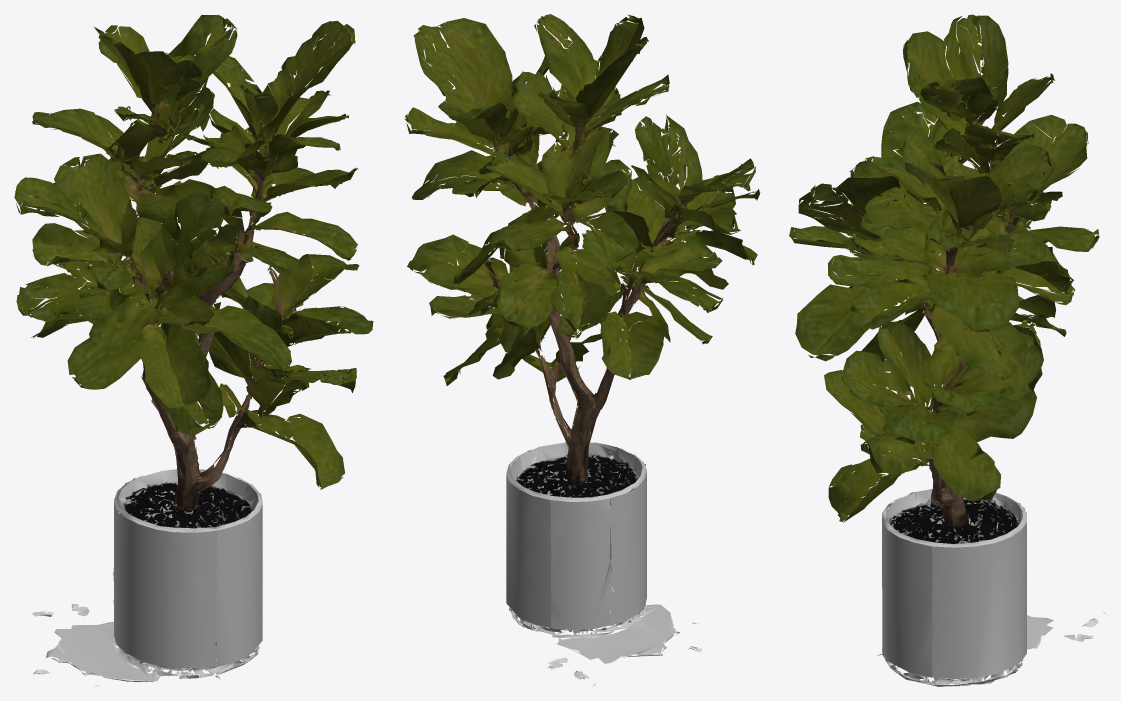
File: potted-plant.glb
The picture shows the model from 3 angles, left to right: view 1: azimuth 30°, elevation 25°; view 2: azimuth 150°, elevation 25°; view 3: azimuth 270°, elevation 25°; orthographic projection. The views are drawn at different scales.
Parts seen in each view (by area): view 1: 05-potted-plant; view 2: 05-potted-plant; view 3: 05-potted-plant.
Part boxes in pixels (bbox=[...]): 05-potted-plant: bbox=[14, 14, 373, 686]; 05-potted-plant: bbox=[404, 14, 760, 686]; 05-potted-plant: bbox=[789, 14, 1105, 686].
Bounding box in the file's own units: 0.9174 × 1.61 × 0.7579.
1 material, 1 textured.
